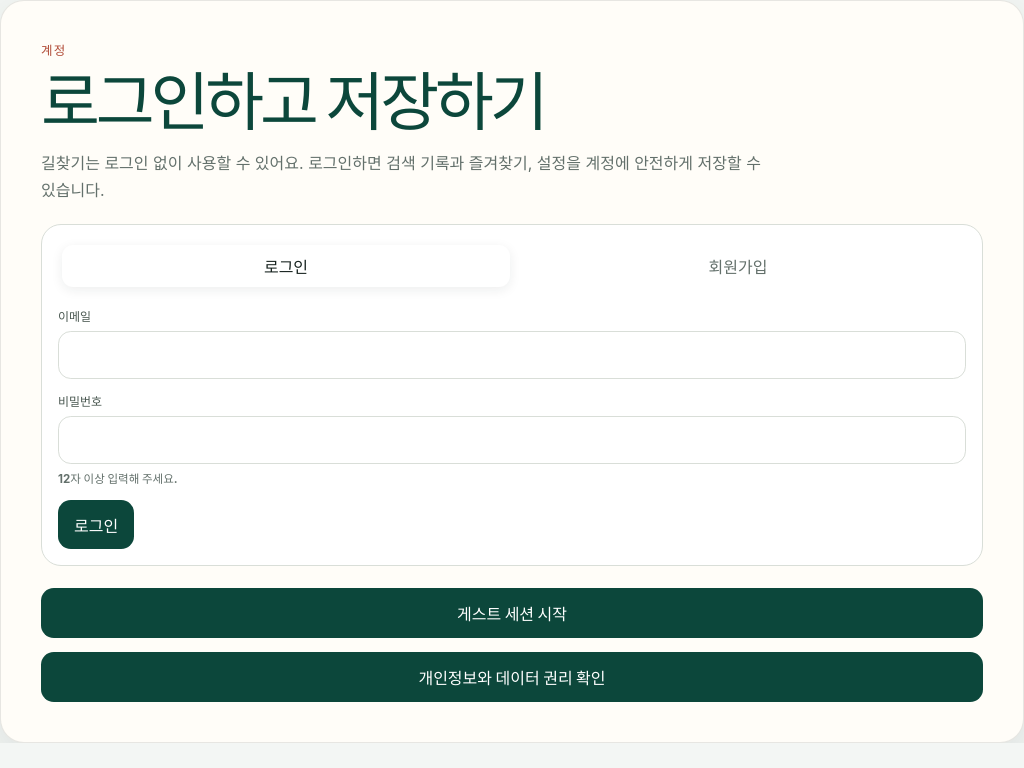
it: AccountPage registration › shows an actionable safe message for a failed registration
Click the tab "회원가입". click: (738, 266)
box: [514,245,962,288]
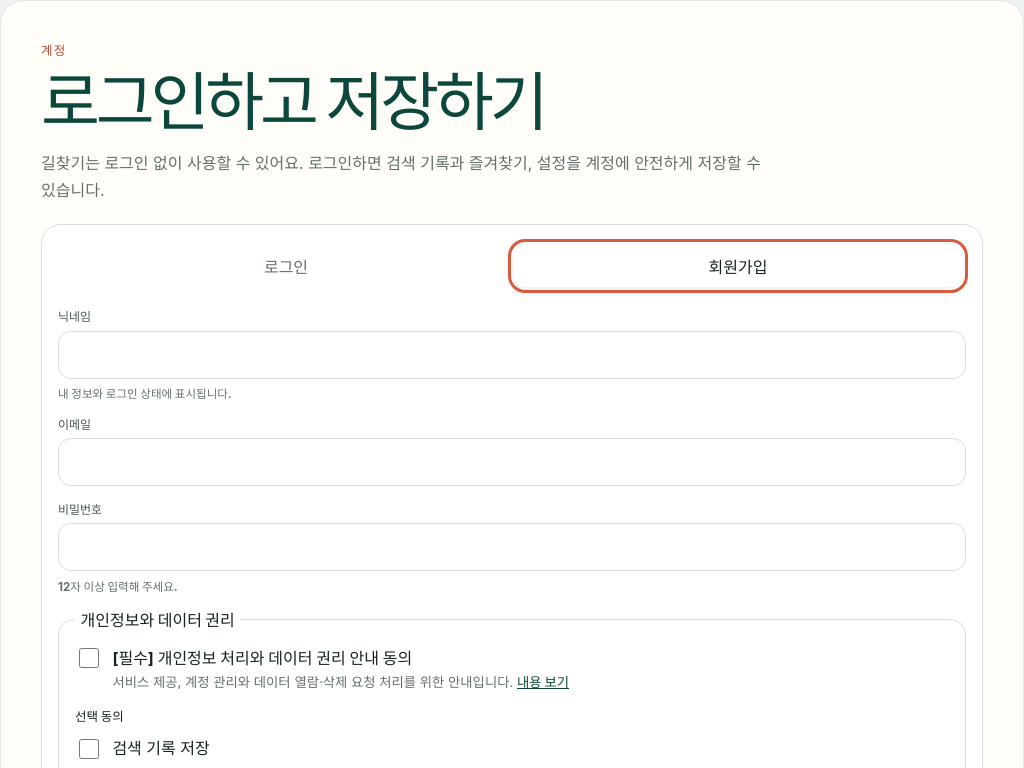
Type "새사용자" into the field labelled "닉네임 내 정보와 로그인 상태에 표시됩니다.". click: (512, 355)
box: [58,331,966,379]
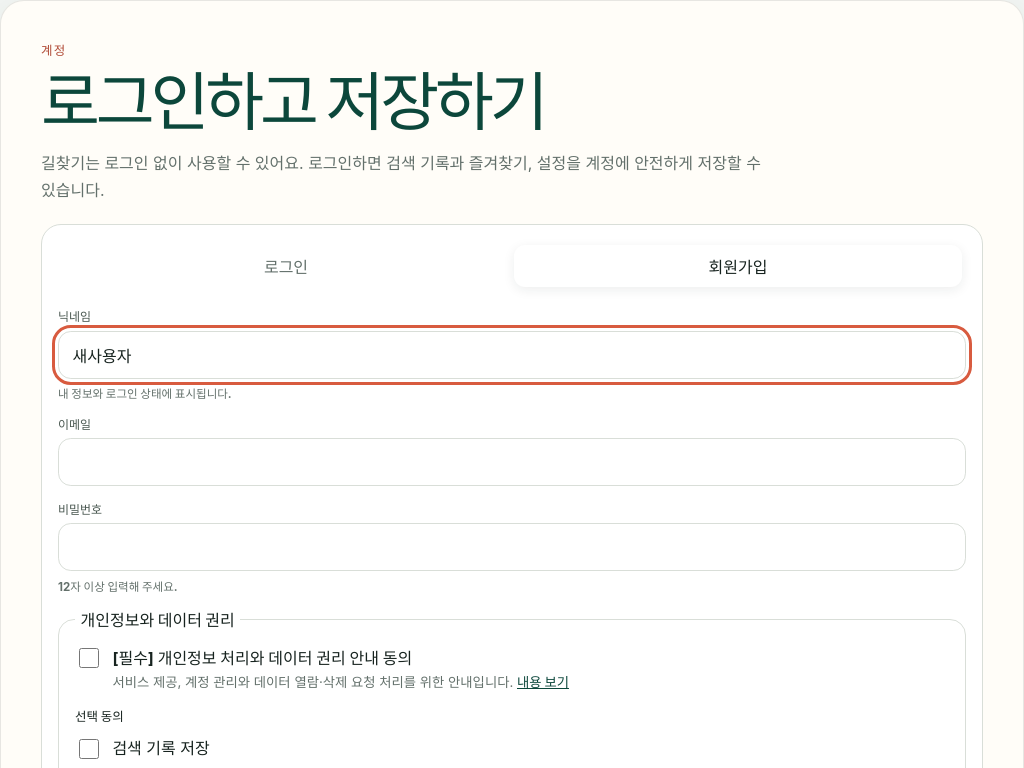
Type "new-user@example.com" into the field labelled "이메일". click: (512, 462)
box: [58,438,966,486]
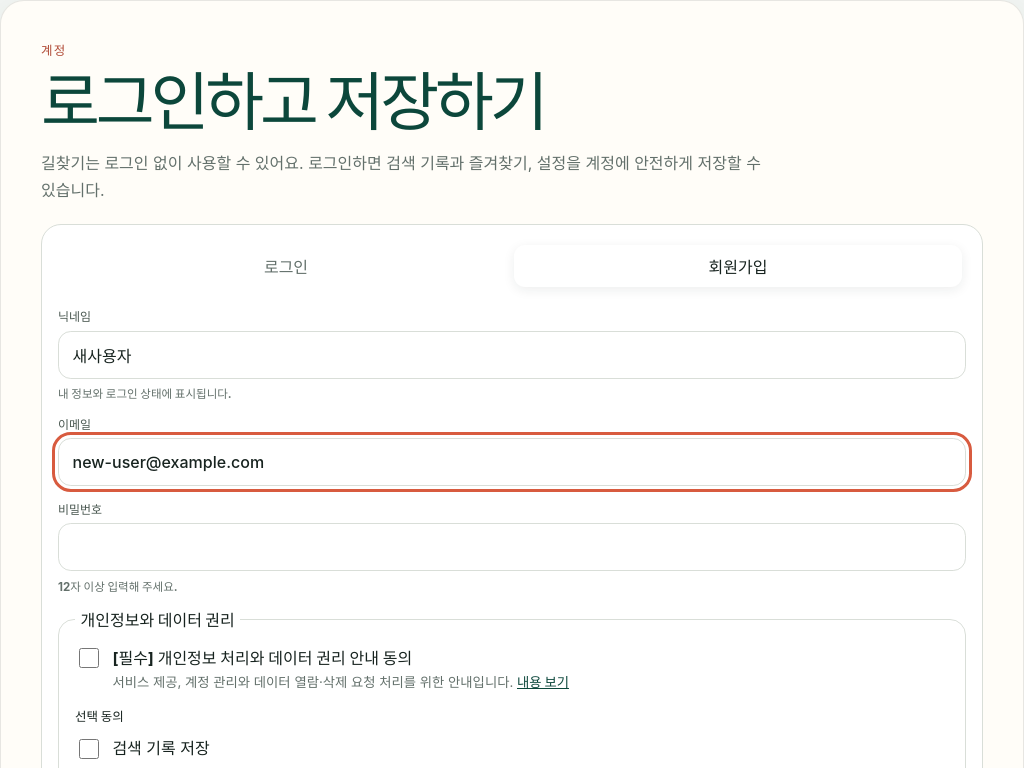
Type "correct-horse-battery-staple" into the password field labelled "비밀번호 12자 이상 입력해 주세요.". click: (512, 547)
box: [58,523,966,571]
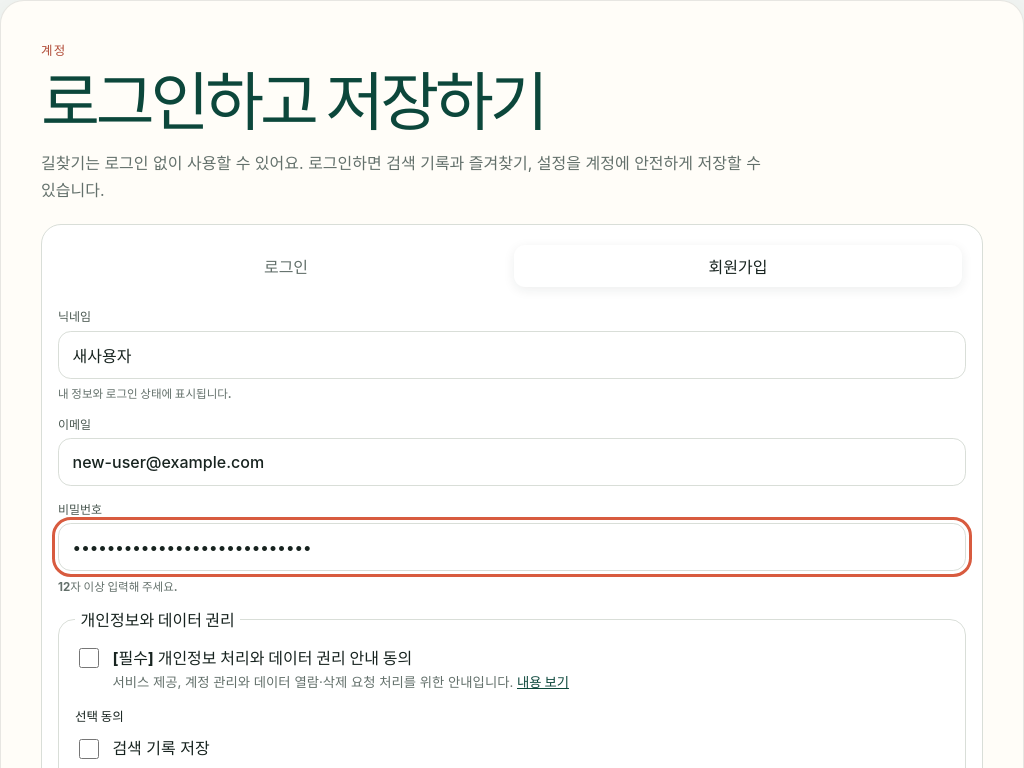
Click the 1st checkbox. click: (89, 658)
box: [79,648,99,668]
(page scrolled)
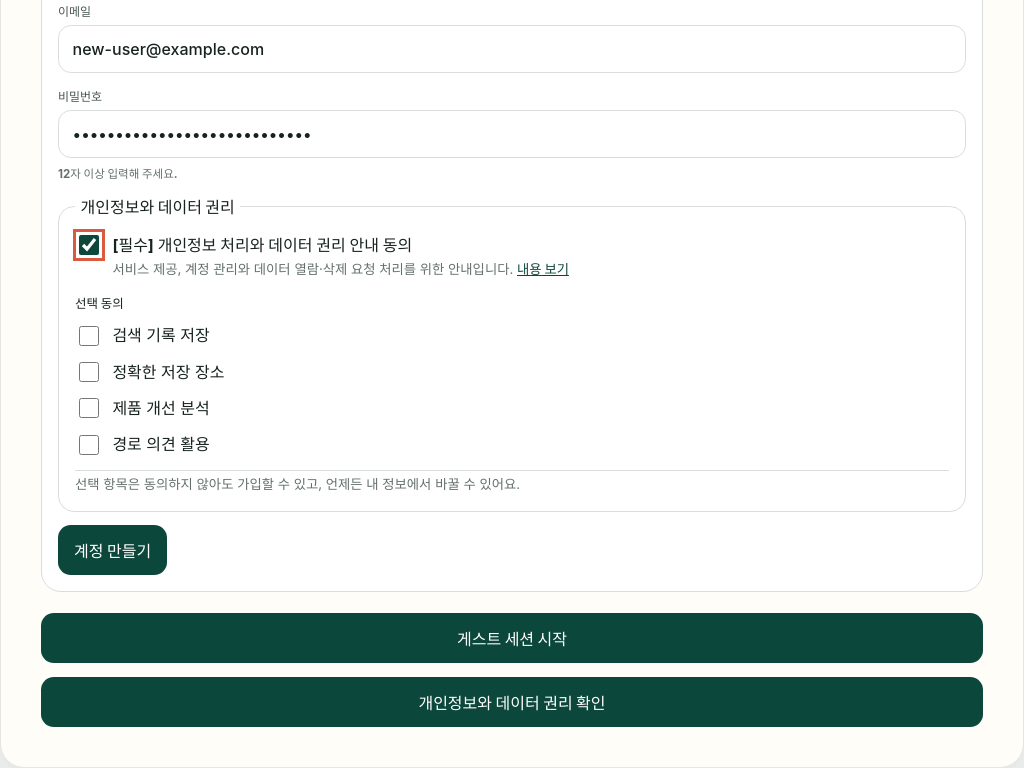
Click the button "계정 만들기". click: (113, 550)
box: [58,525,167,575]
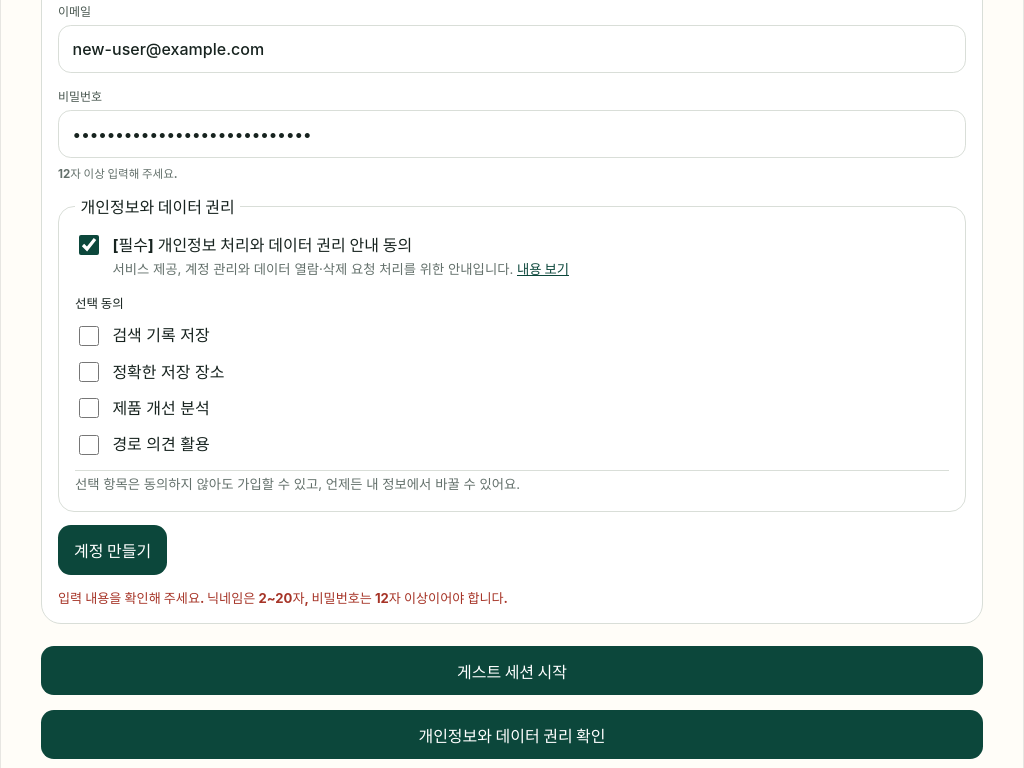
Now the text "입력 내용을 확인해 주세요. 닉네임은 2~20자, 비밀번호는 12자 이상이어야 합니다." is shown, box [58,590,508,606]
